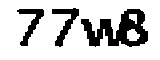7: (49, 6, 80, 51), (13, 6, 45, 49)
8: (123, 6, 150, 51)
w: (81, 17, 121, 51)
